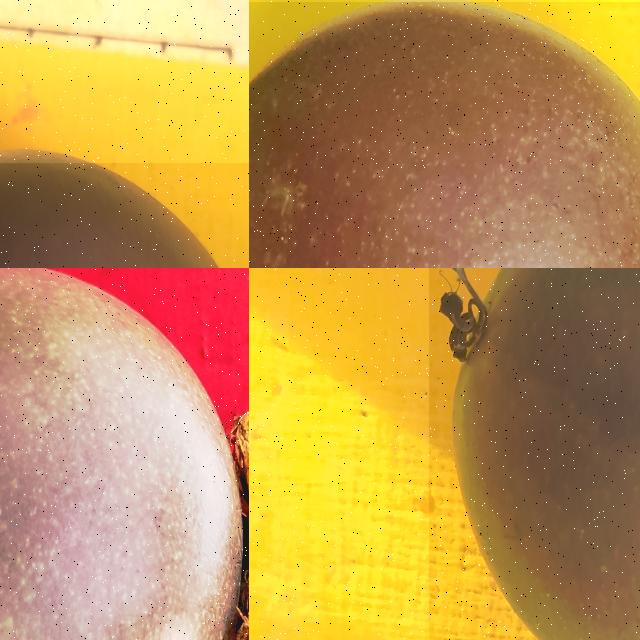Estado-3: (435, 268, 640, 640)
Estado-5: (249, 2, 640, 268), (0, 162, 216, 268)
